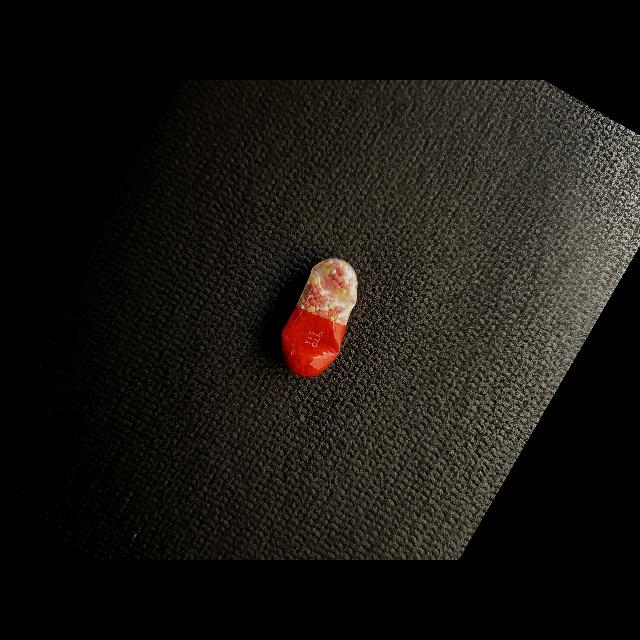Defective Capsule: (281, 258, 358, 377)
